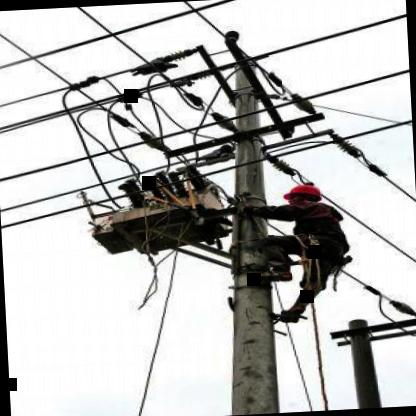helmet: (276, 180, 324, 212)
